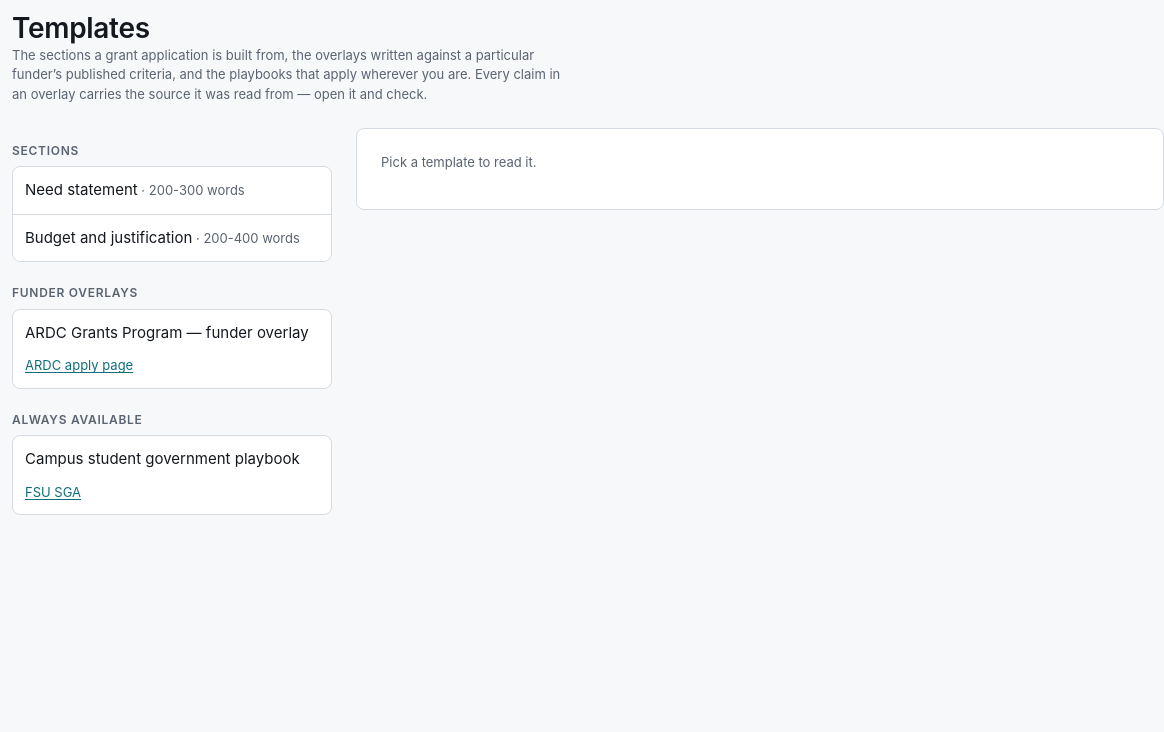
it: TemplatesRoute › says a template is BROKEN when the server 500s, and does not blame the request
The width and height of the screenshot is (1164, 732).
Click the button "Need statement · 200-300 words": (172, 191) [13,168,331,214]
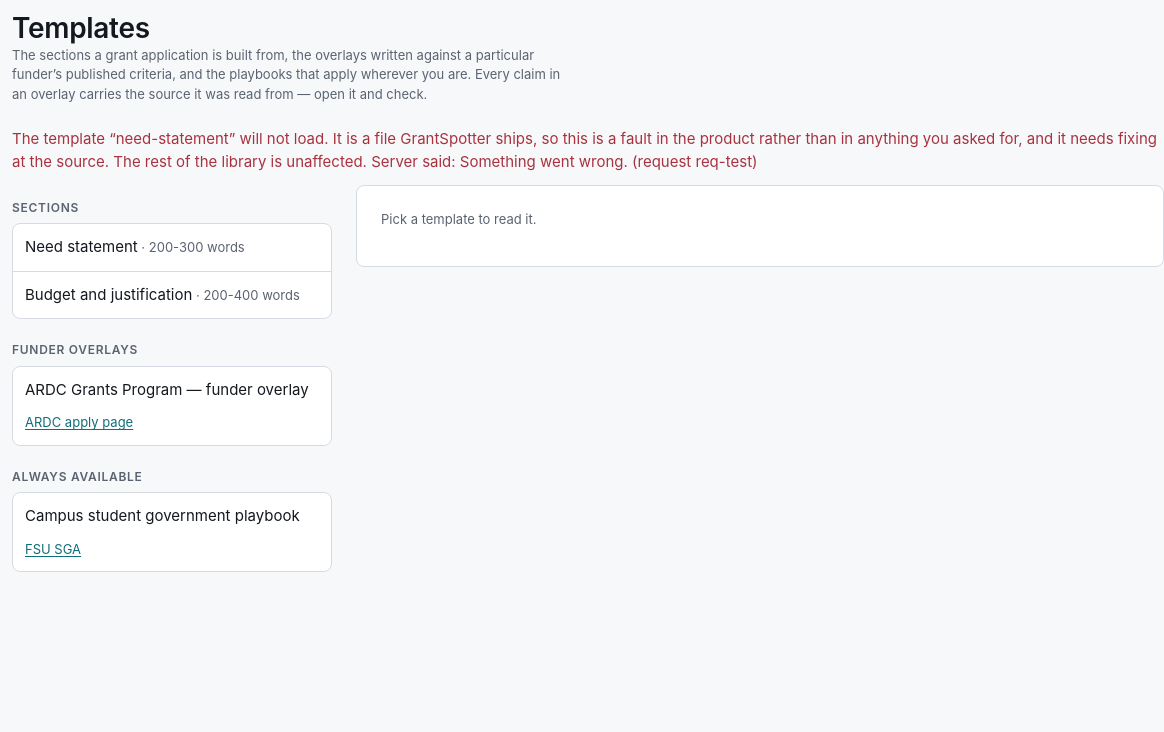
Result: the message shows "will not load" at [12,129,1157,171]
